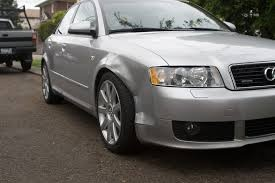Dent: (132, 78, 156, 128), (115, 56, 152, 83)
